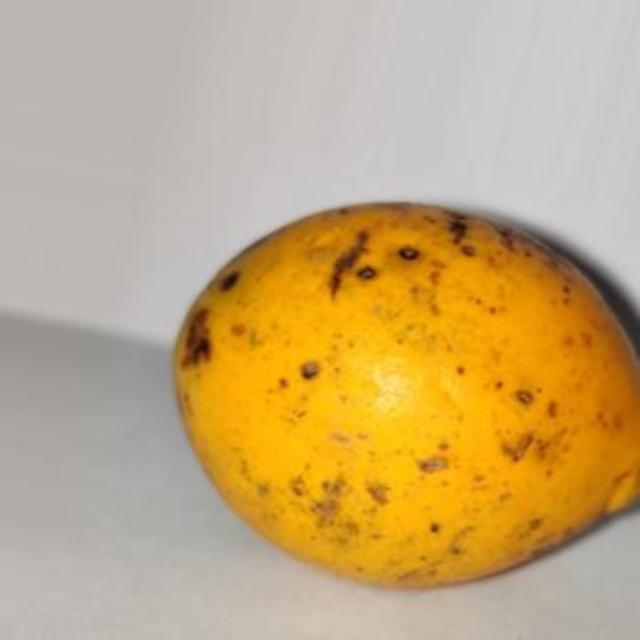good: (170, 203, 638, 592)
